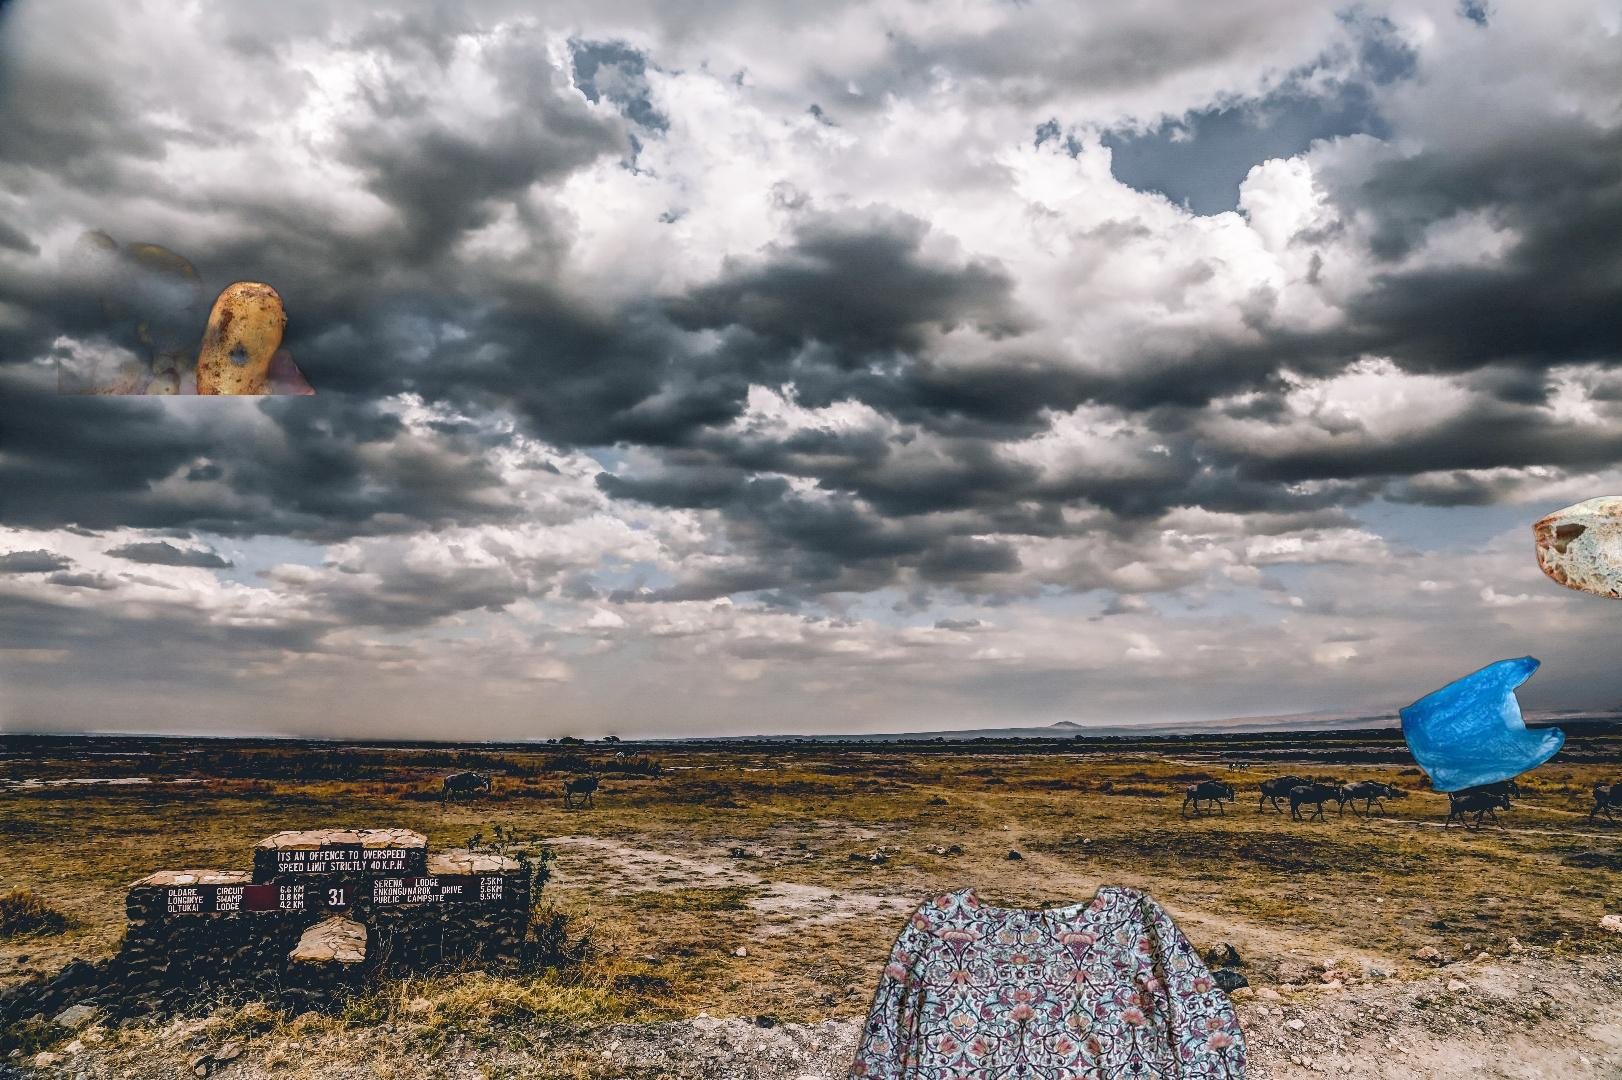biological: (58, 227, 357, 395), (1530, 491, 1622, 603)
clothes: (846, 879, 1246, 1080)
plastic-bag: (1398, 653, 1569, 796)
